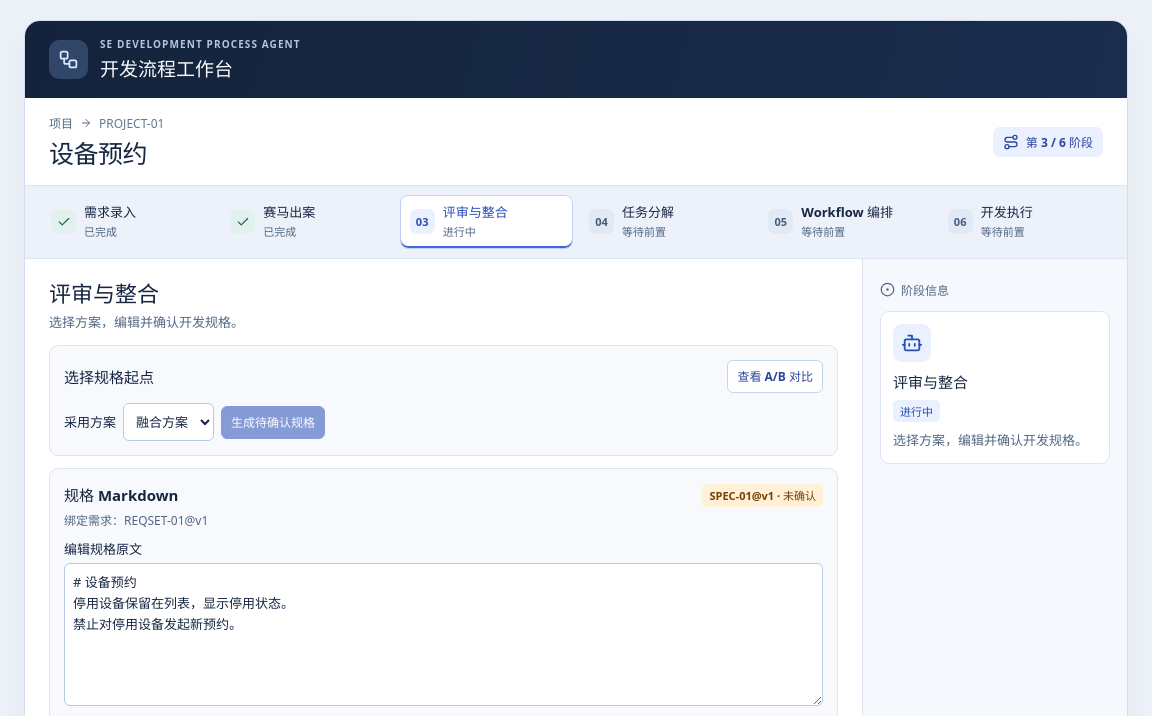
Test: 工作台 › 保存发生版本冲突时刷新快照并保留未提交的规格 Markdown
Replace the text in the text box labelled "编辑规格原文" with "# 本地编辑" at [444, 635], box [64, 563, 823, 706]
(page scrolled)
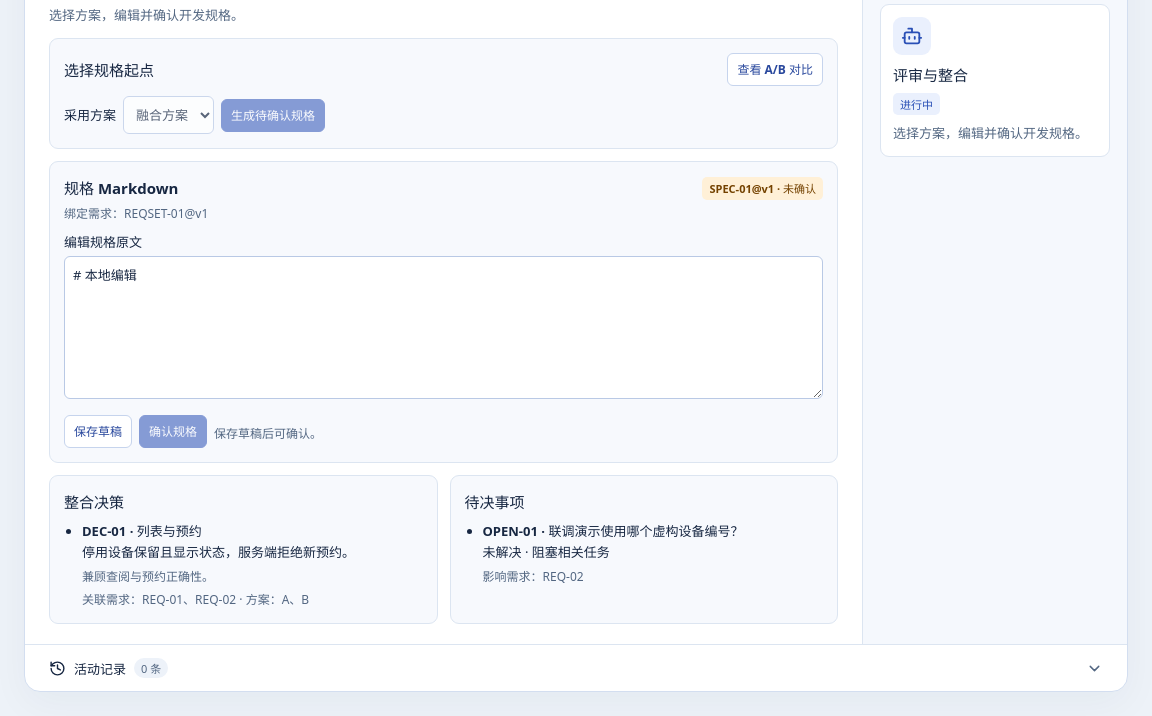
Click the button "保存草稿" at [98, 432], box [64, 415, 132, 448]
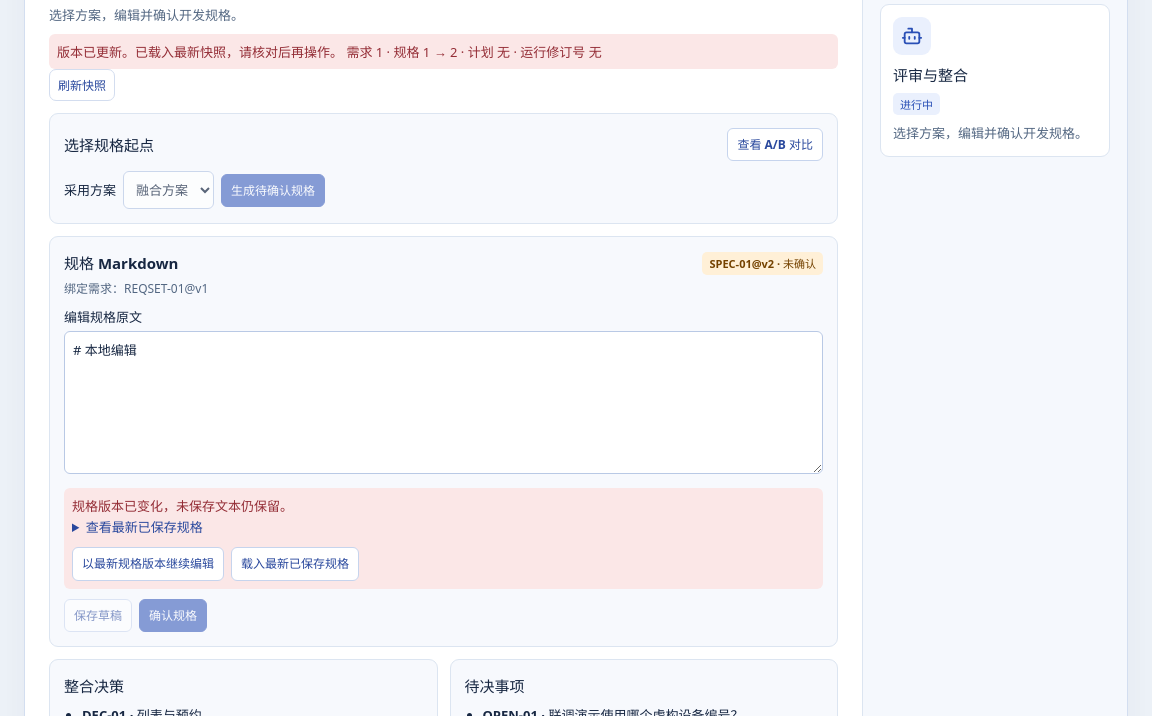
Check: the message shows "已载入最新快照", box [57, 43, 602, 61]
Check: the text "SPEC-01@v2 · 未确认" is shown, box [702, 252, 823, 275]
Check: the button "保存草稿" is disabled, box [64, 599, 132, 632]
Click the button "以最新规格版本继续编辑" at [148, 564], box [72, 548, 224, 581]
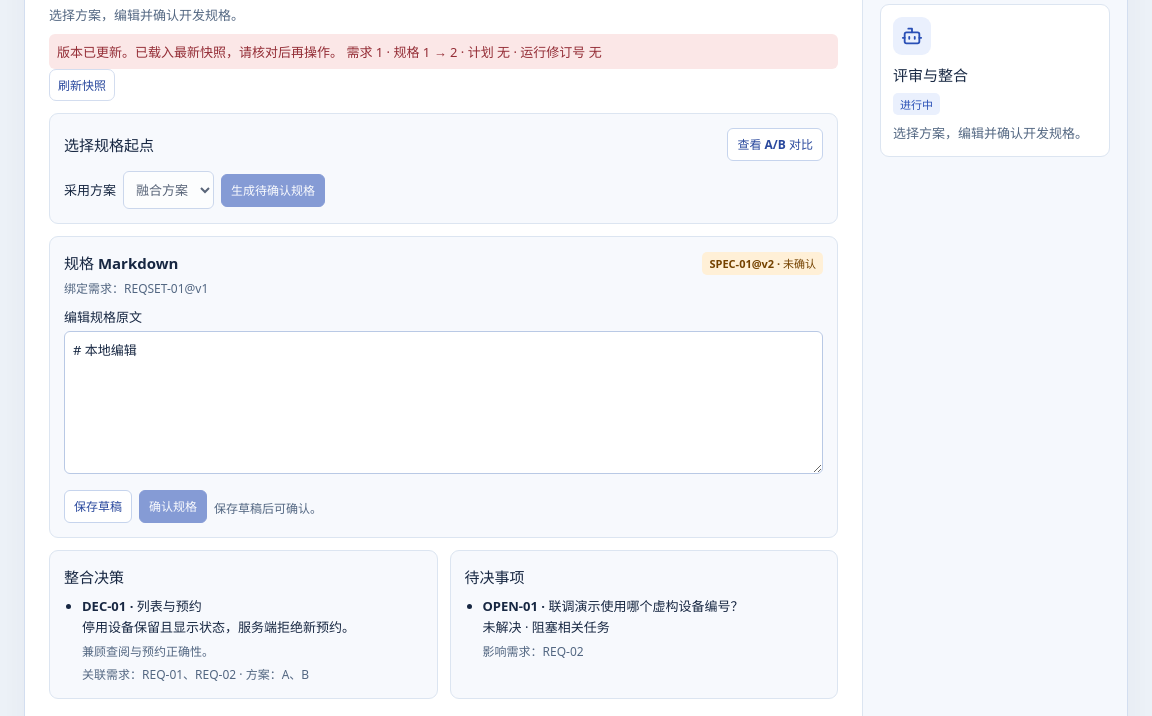
Check: the button "保存草稿" is enabled, box [64, 490, 132, 523]
